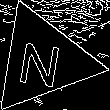N_N: (18, 32, 68, 88)
